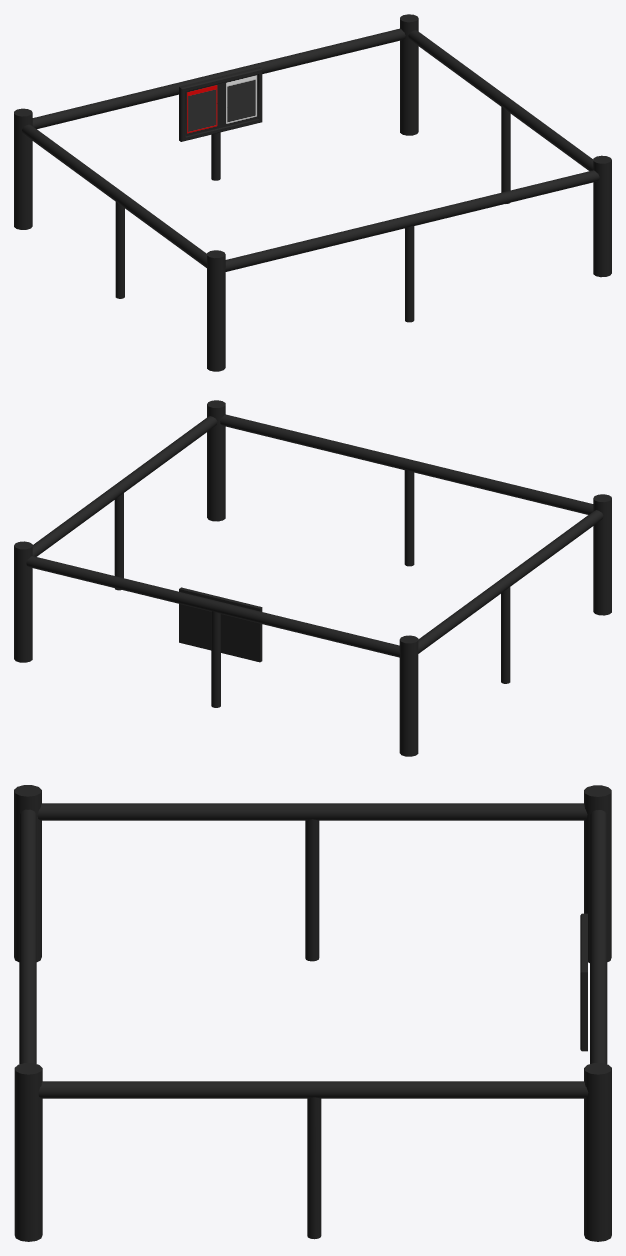
Rendered from cylinder+billboard.fbx.
3 views of the same model, one above another, from view 1: azimuth 30°, elevation 25°; view 2: azimuth 150°, elevation 25°; view 3: azimuth 270°, elevation 25° (orthographic). The views are drawn at different scales.
Visible parts, largest first — view 1: Cylinder, billboard; view 2: Cylinder, billboard; view 3: Cylinder, billboard.
Part boxes in pixels (x1=…): Cylinder: x1=14, y1=14, x2=611, y2=371; billboard: x1=179, y1=67, x2=262, y2=141; Cylinder: x1=14, y1=400, x2=611, y2=756; billboard: x1=179, y1=587, x2=262, y2=662; Cylinder: x1=14, y1=785, x2=611, y2=1241; billboard: x1=580, y1=913, x2=587, y2=1051.
Size of the model in its own units: 390 by 105 by 340.
Materials: 2 (2 with a texture image).
